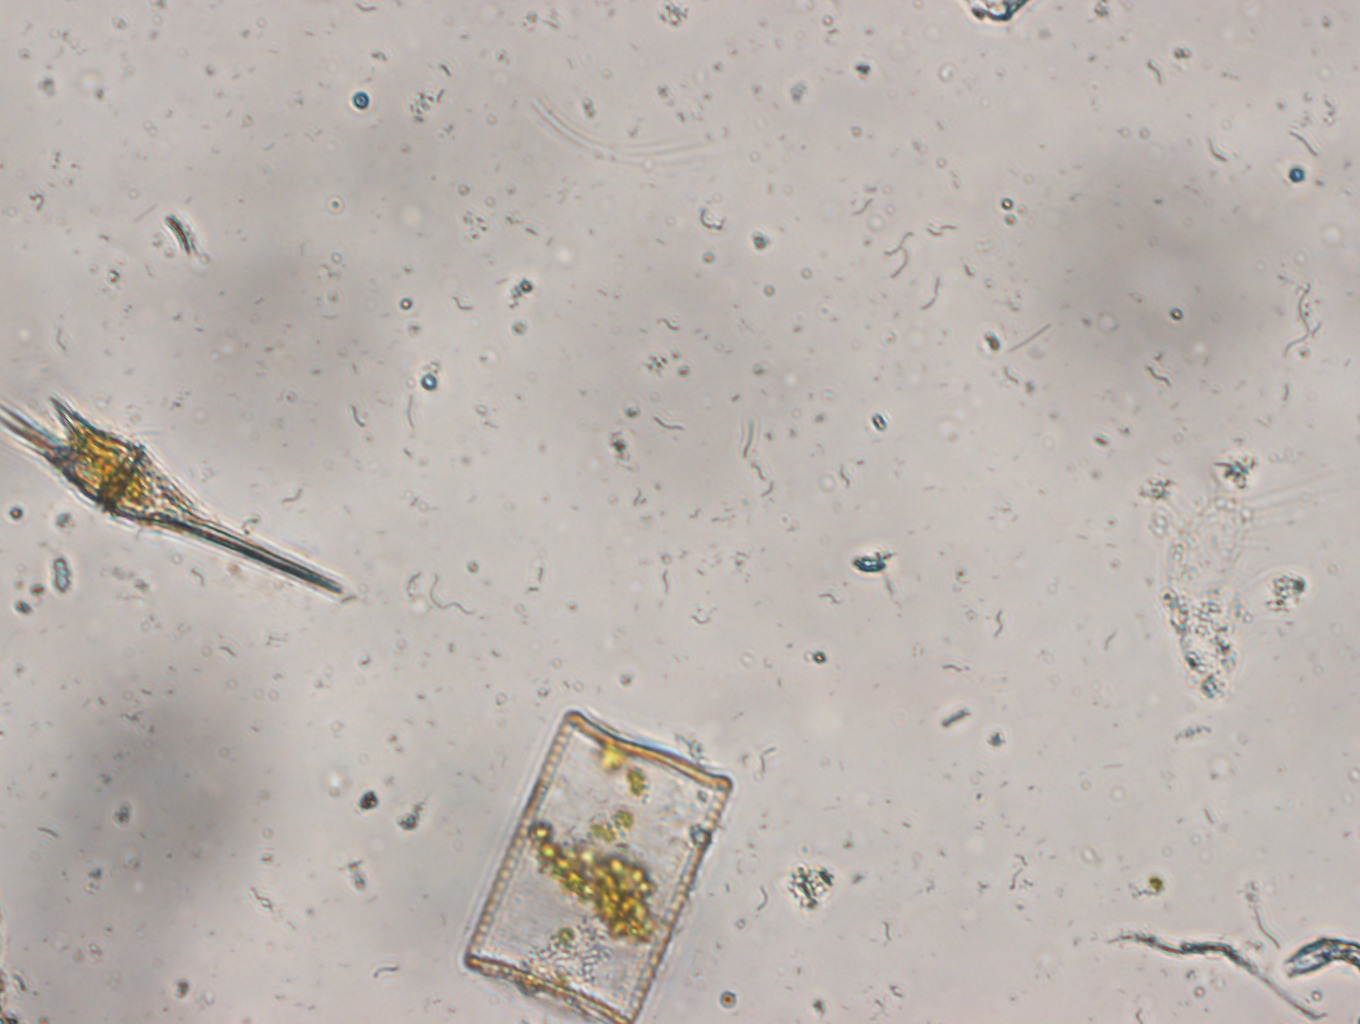ceratium furca: (2, 382, 352, 607)
guinardia flaccida: (460, 693, 739, 1024)
